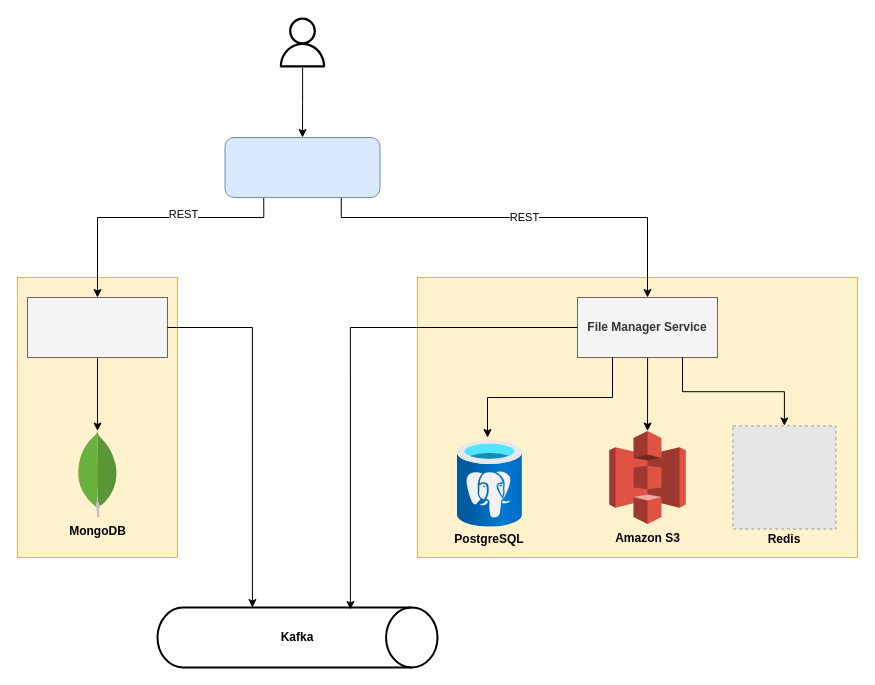
Some shapes in this 875 by 685 pixel diagram are drawn without their labels. Grey dashed boxes stand in for pictures. The box of each missing label's shape, as (x1, y1, x2, y2) in pixels:
Kong API Gateway: (224, 136, 380, 198)
User Management Service: (26, 296, 168, 358)
